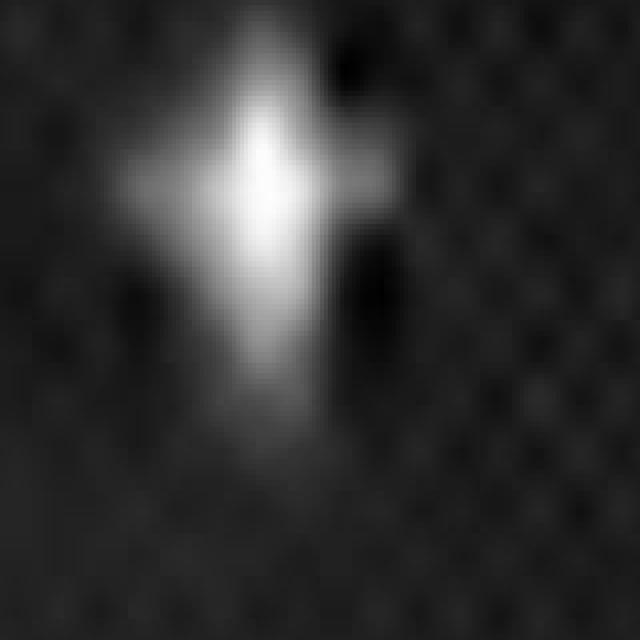person: (141, 1, 353, 412)
